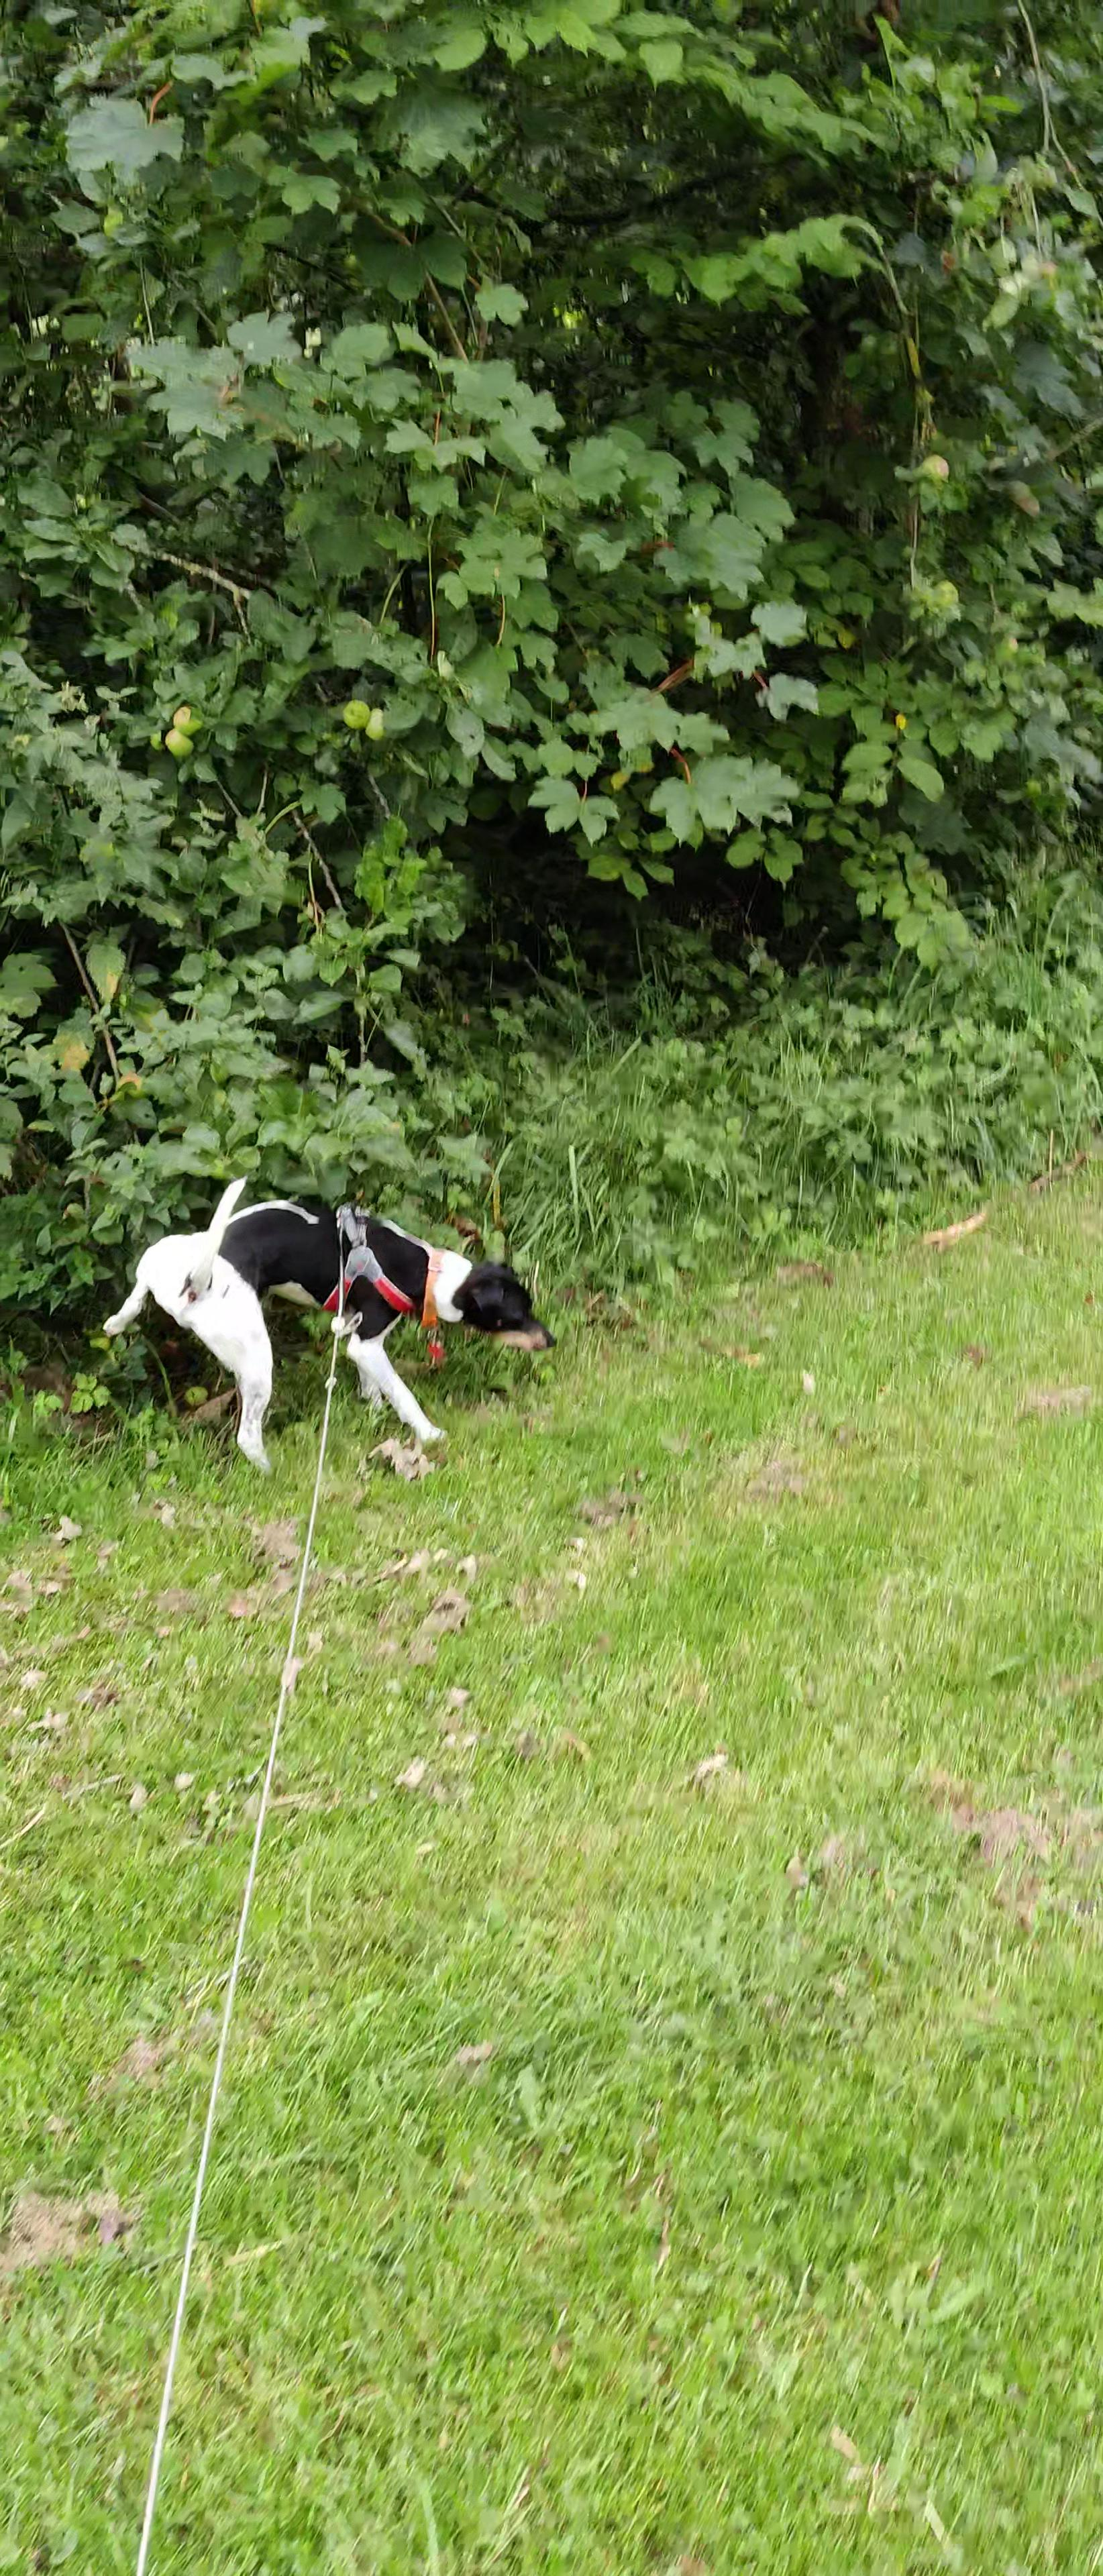Dog: (82, 1158, 565, 1485)
